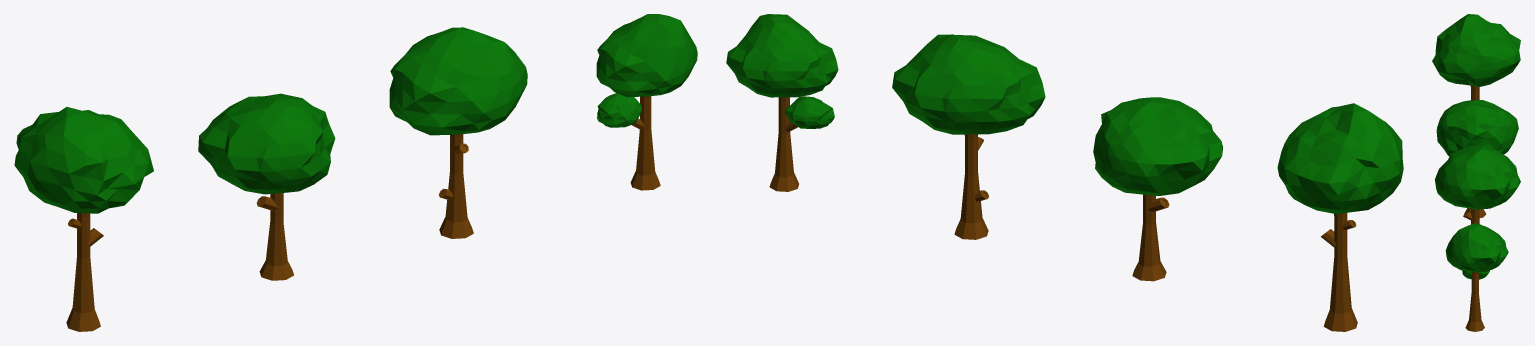
The model's file is RoundTopTrees.fbx.
The picture shows the model from 3 angles, left to right: view 1: azimuth 30°, elevation 25°; view 2: azimuth 150°, elevation 25°; view 3: azimuth 270°, elevation 25°; orthographic projection. The views are drawn at different scales.
Parts seen in each view (by area): view 1: Icosphere.002, Icosphere.001, Icosphere, Icosphere.003, Cylinder.002, Cylinder.005, Cylinder.001, Cylinder.008, Icosphere.004; view 2: Icosphere.002, Icosphere.001, Icosphere, Icosphere.003, Cylinder.002, Cylinder.005, Cylinder.001, Cylinder.008, Icosphere.004; view 3: Icosphere.001, Icosphere.002, Icosphere, Icosphere.003, Cylinder.008, Cylinder.005, Icosphere.004, Cylinder.002, Cylinder.001.
Part boxes in pixels (<box>): Icosphere.002: <box>389,27,527,135</box>; Icosphere.001: <box>14,107,153,213</box>; Icosphere: <box>198,93,335,194</box>; Icosphere.003: <box>596,14,697,97</box>; Cylinder.002: <box>66,213,100,331</box>; Cylinder.005: <box>439,134,473,238</box>; Cylinder.001: <box>259,193,293,280</box>; Cylinder.008: <box>630,96,660,190</box>; Icosphere.004: <box>597,93,641,127</box>; Icosphere.002: <box>892,34,1045,134</box>; Icosphere.001: <box>1277,103,1403,214</box>; Icosphere: <box>1093,97,1222,195</box>; Icosphere.003: <box>726,14,838,97</box>; Cylinder.002: <box>1323,213,1357,331</box>; Cylinder.005: <box>954,134,988,239</box>; Cylinder.001: <box>1132,194,1166,281</box>; Cylinder.008: <box>769,97,798,191</box>; Icosphere.004: <box>785,96,834,128</box>; Icosphere.001: <box>1432,14,1520,86</box>; Icosphere.002: <box>1435,145,1520,209</box>; Icosphere: <box>1436,100,1518,156</box>; Icosphere.003: <box>1445,223,1508,272</box>; Cylinder.008: <box>1465,272,1484,331</box>; Cylinder.005: <box>1471,208,1479,224</box>; Icosphere.004: <box>1462,270,1489,279</box>; Cylinder.002: <box>1470,85,1479,100</box>; Cylinder.001: <box>1464,208,1486,217</box>.
Size of the model in its own units: 4059 by 1282 by 747.
